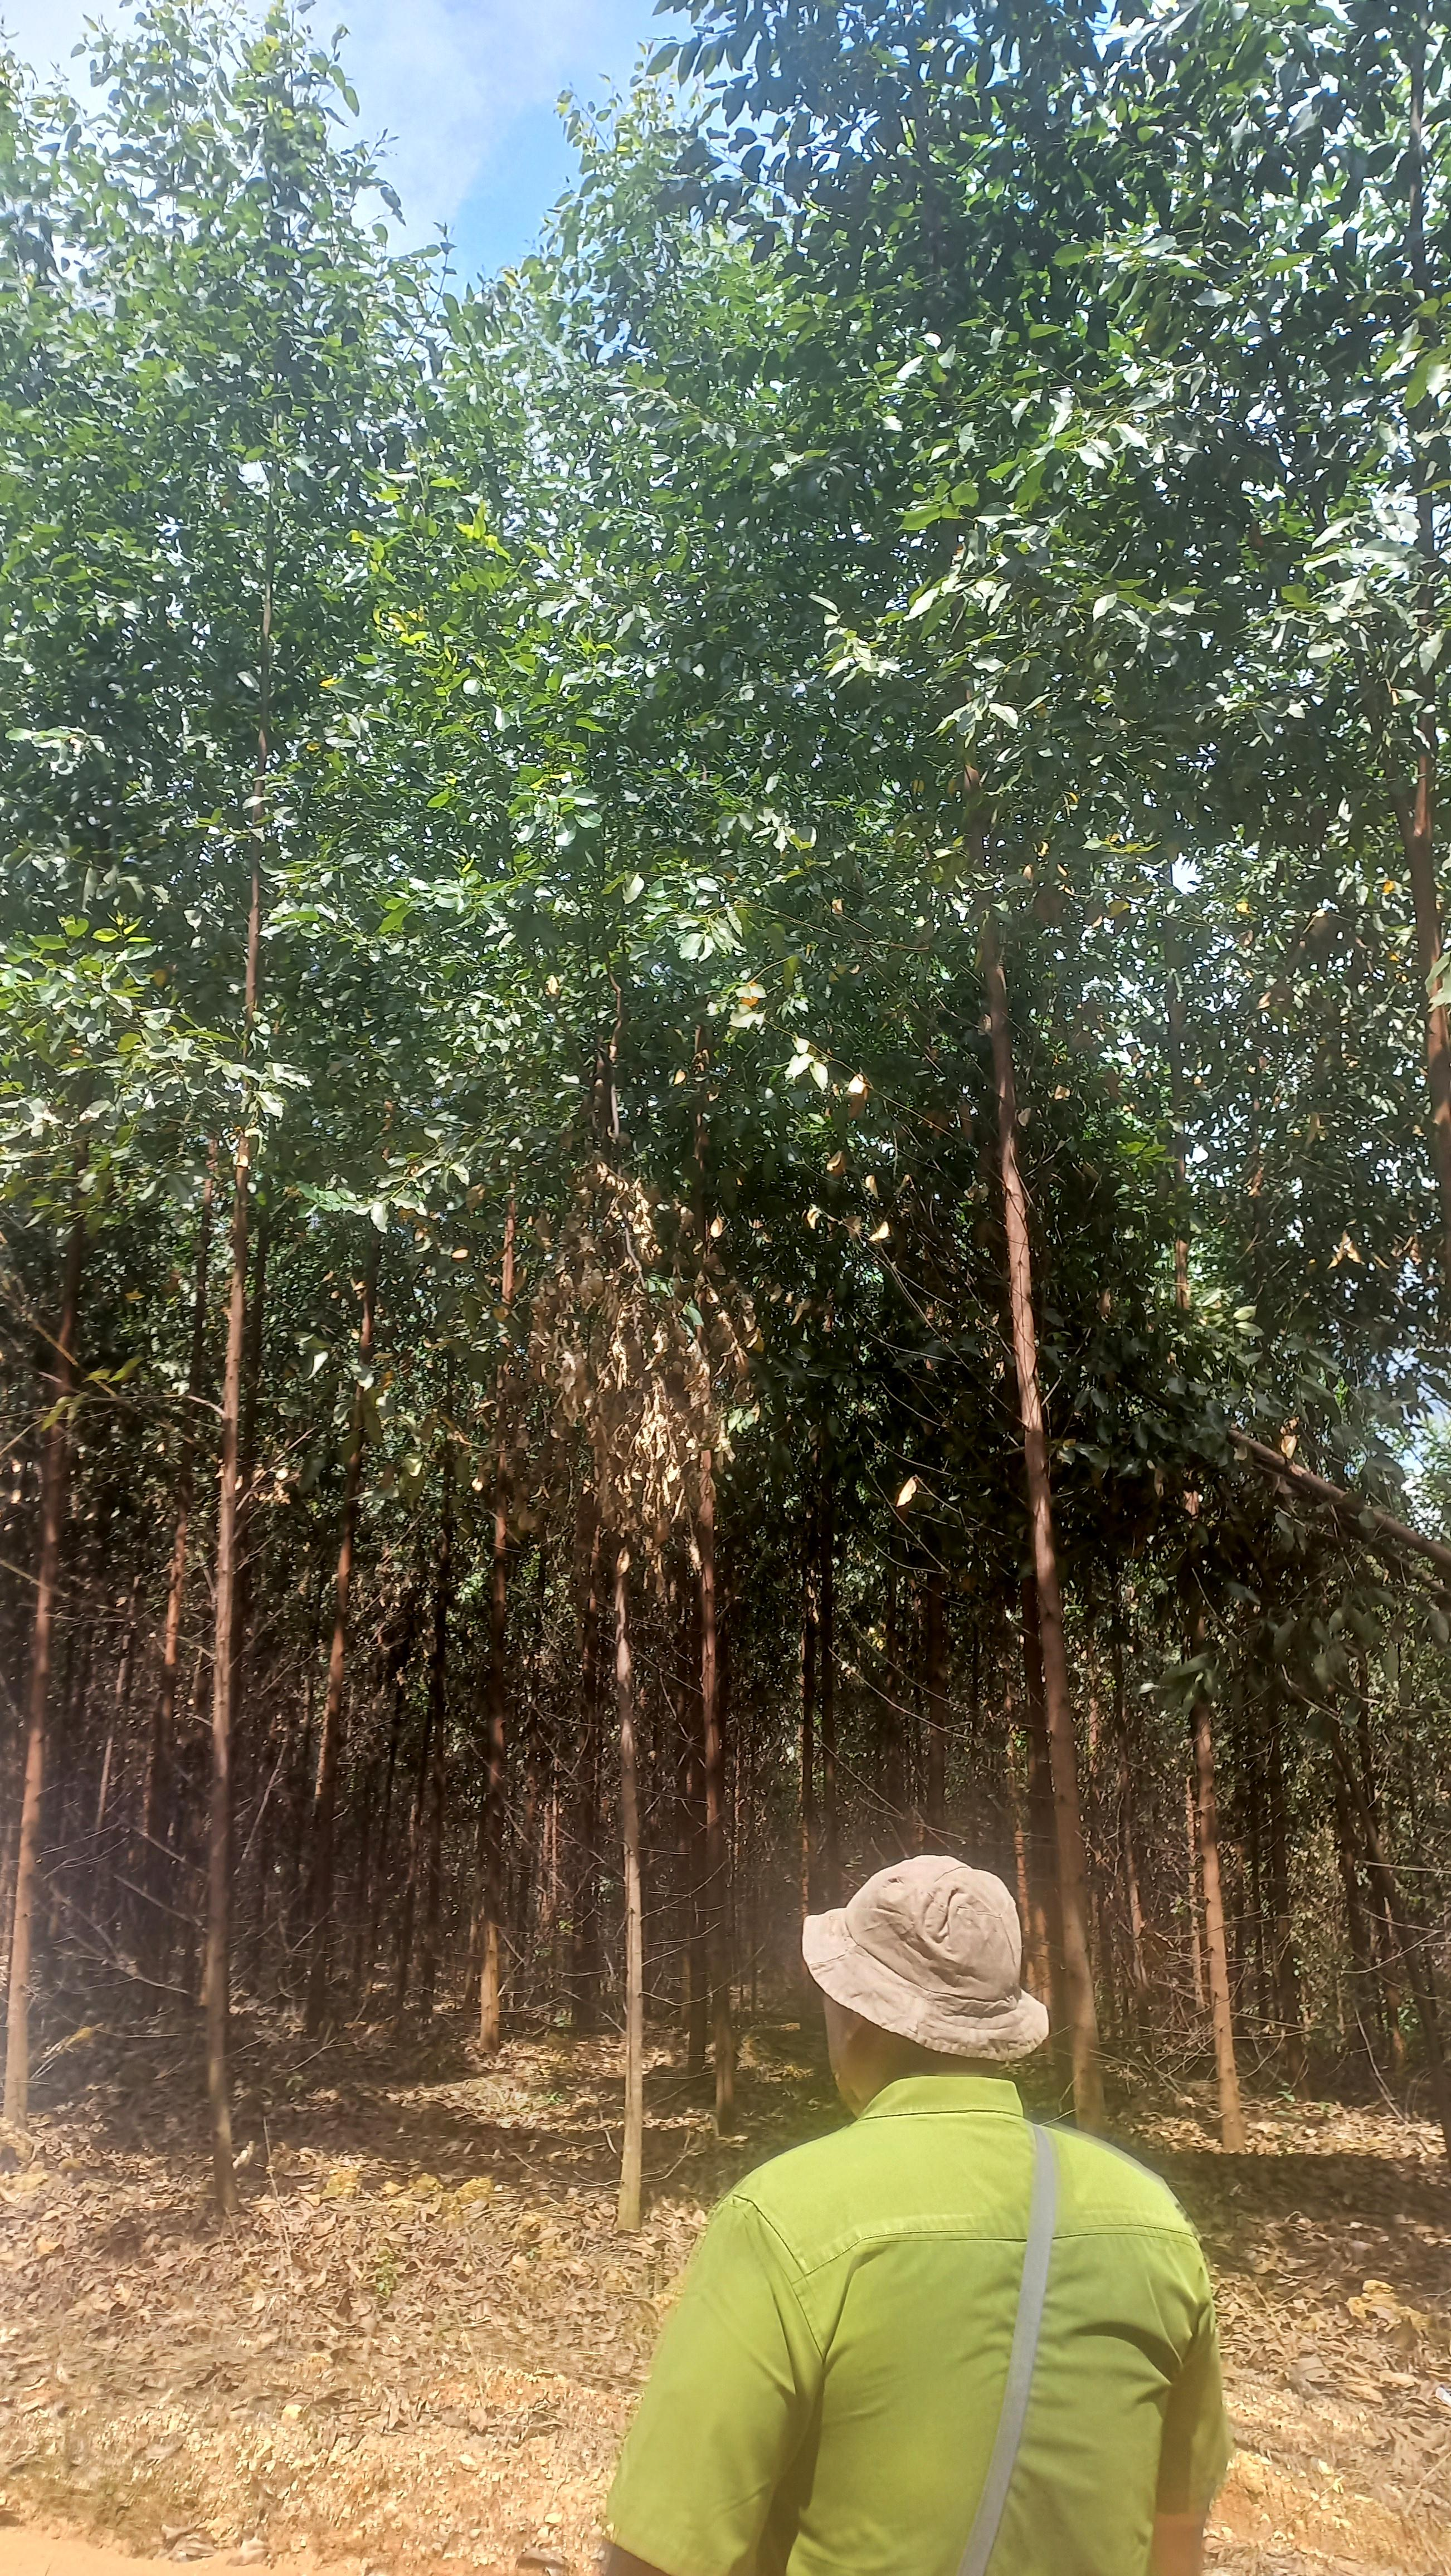Wither Tree Parts: (497, 1177, 809, 1578)
